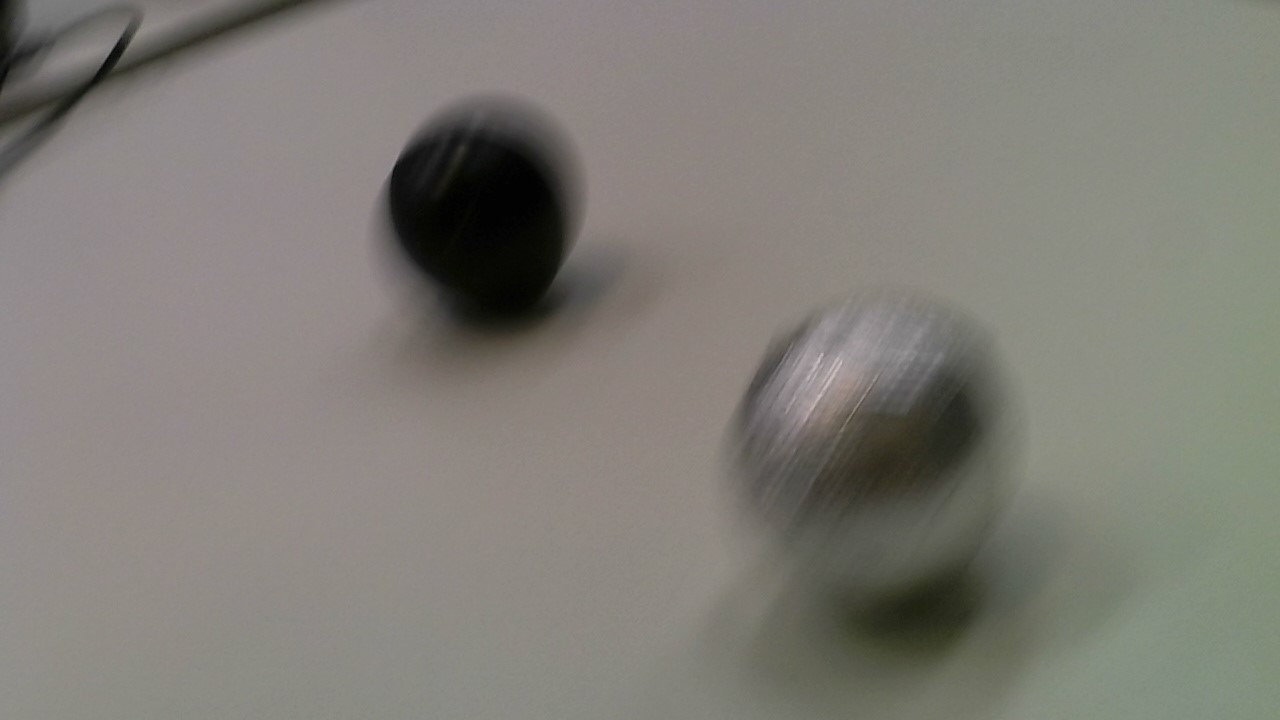black_ball: (386, 97, 586, 324)
silver_ball: (727, 291, 1032, 615)
